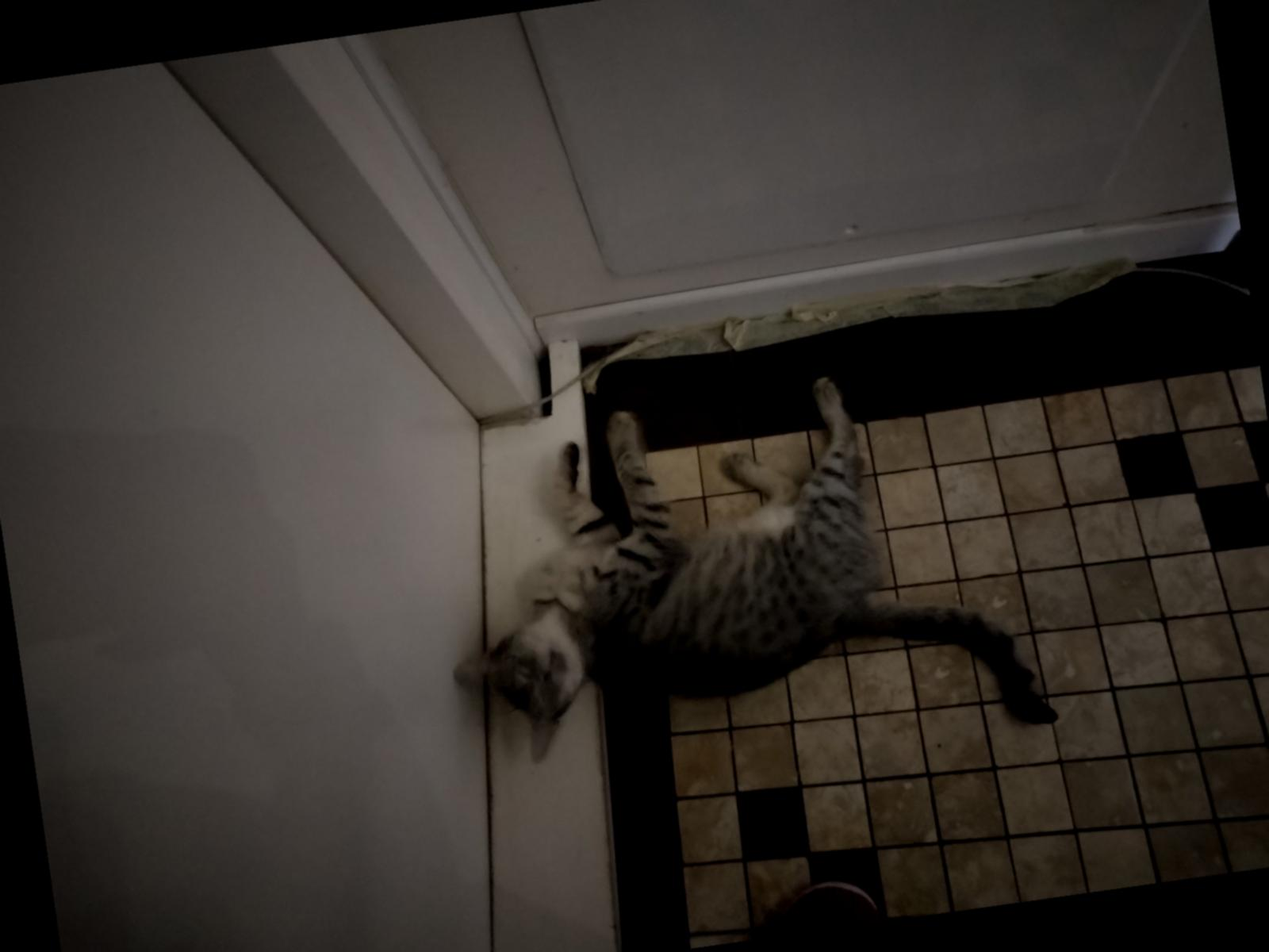macka: (416, 354, 1068, 810)
